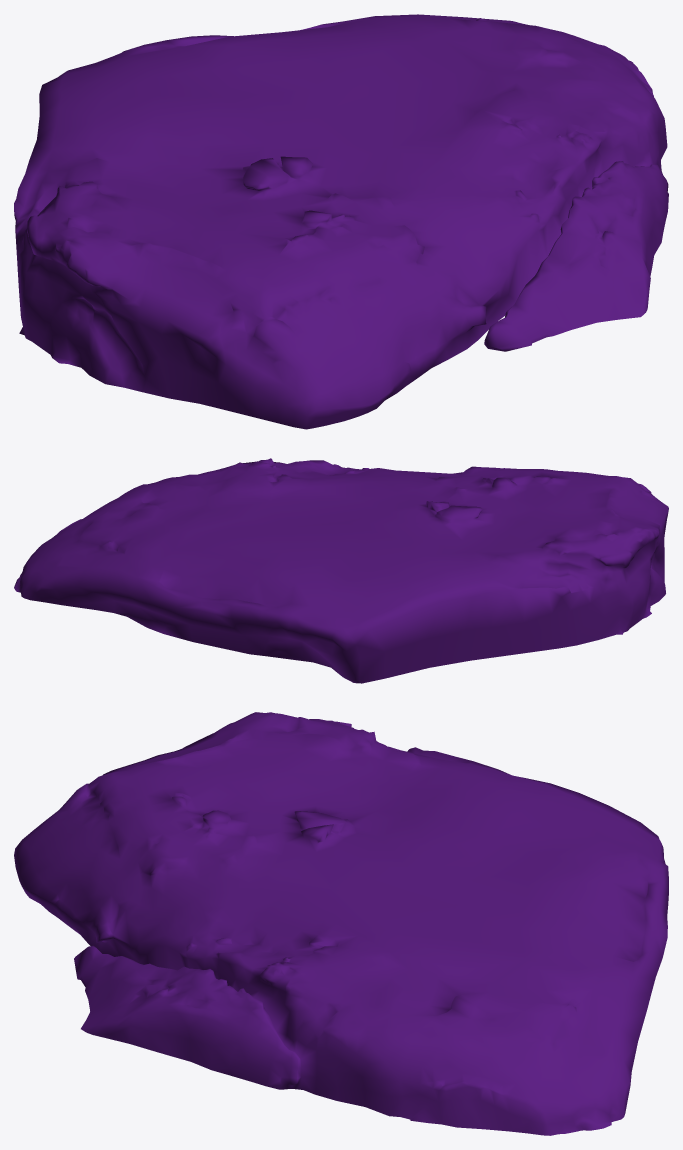
File: MSH_Rocks_Flat_03.FBX
3 renders of one model, top to bottom at view 1: azimuth 30°, elevation 25°; view 2: azimuth 150°, elevation 25°; view 3: azimuth 270°, elevation 25°, orthographic. The views are drawn at different scales.
Visible parts, largest first — view 1: MESH_LOD0; view 2: MESH_LOD0; view 3: MESH_LOD0.
Boxes of the visible parts, bbox=[...] form: MESH_LOD0: bbox=[14, 14, 668, 429]; MESH_LOD0: bbox=[14, 458, 668, 683]; MESH_LOD0: bbox=[14, 712, 668, 1135].
Size of what is drawn, in the model's own units: 267 by 41.84 by 227.
